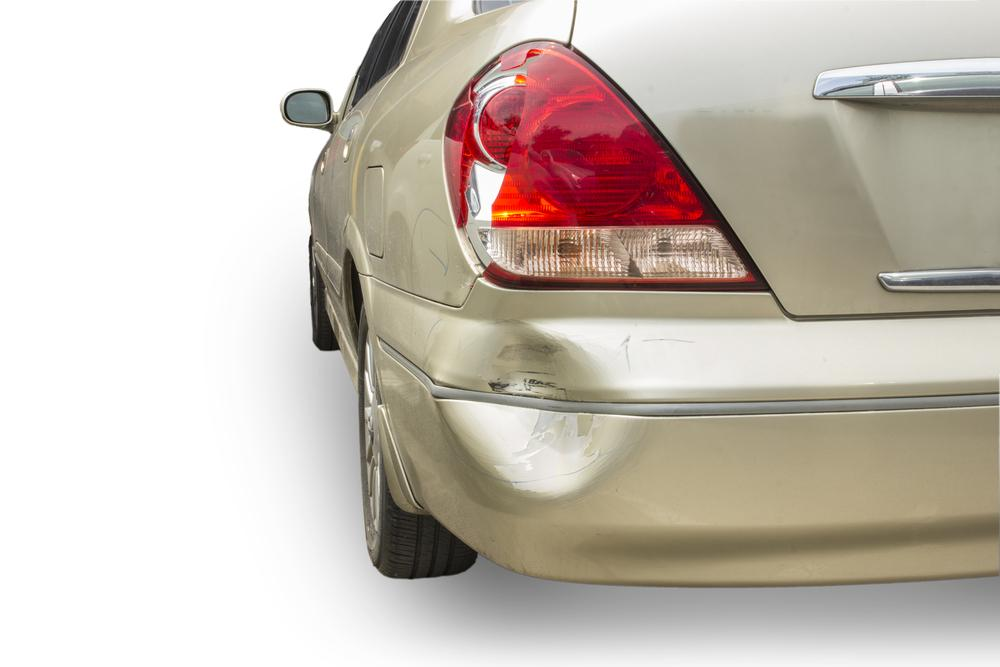dent: (438, 322, 633, 497)
lamp broken: (448, 40, 768, 294)
